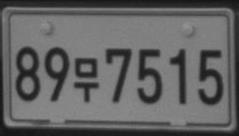1: (165, 48, 193, 104)
5: (136, 48, 162, 104), (197, 49, 223, 105)
7: (105, 47, 132, 103)
8: (14, 45, 41, 101)
9: (44, 46, 70, 102)
무: (73, 57, 100, 103)
